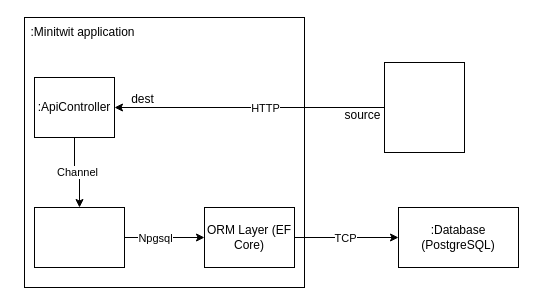
The diagram is 536 pixels wide and 305 high, and some of its shapes have lost their labels. Each missing label, with the box of its shape:
:BatchService: (34, 206, 124, 268)
:Simulator: (384, 62, 464, 152)
